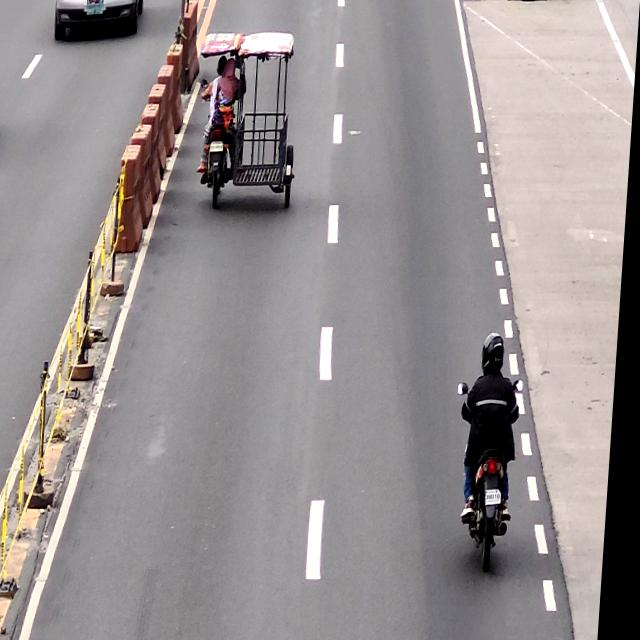License-Plate: (489, 487, 510, 505), (210, 139, 227, 153)
Motorcycle: (454, 380, 530, 574)
Tricycle: (193, 34, 305, 210)
